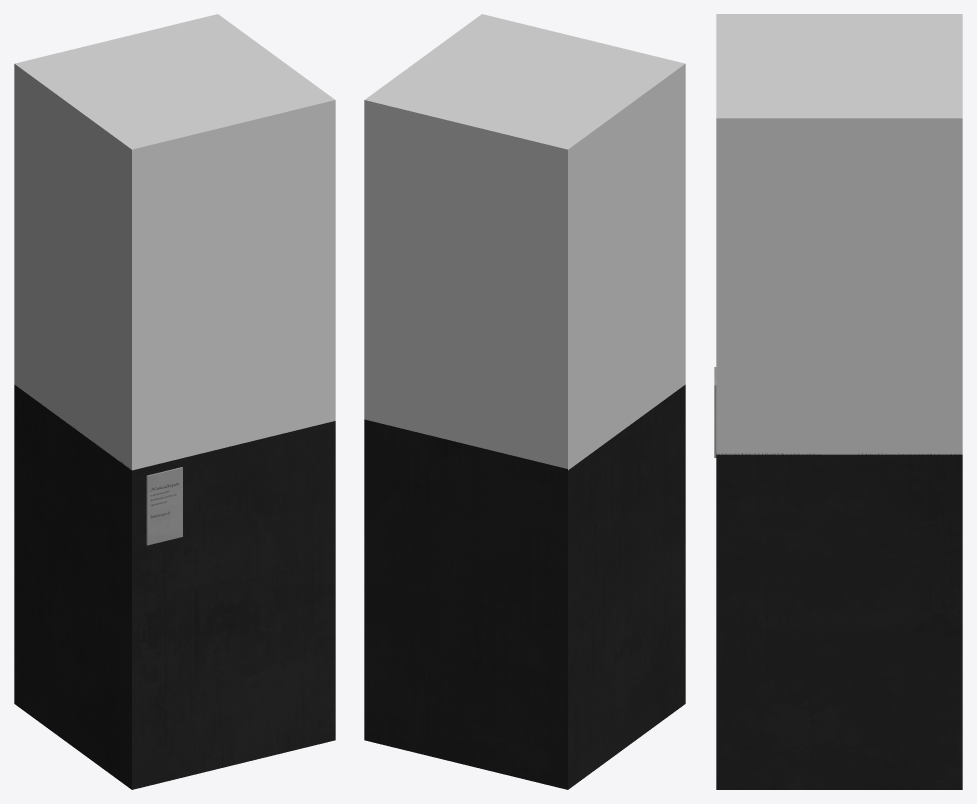
The model's file is Showcasemdl_S.fbx.
3 views of the same model, side by side, from view 1: azimuth 30°, elevation 25°; view 2: azimuth 150°, elevation 25°; view 3: azimuth 270°, elevation 25° (orthographic). The views are drawn at different scales.
Parts seen in each view (by area): view 1: GlassCase2; view 2: GlassCase2; view 3: GlassCase2.
Boxes of the visible parts, left/top/right/bottom form: GlassCase2: left=14, top=14, right=335, bottom=789; GlassCase2: left=364, top=14, right=685, bottom=789; GlassCase2: left=714, top=14, right=962, bottom=789.
Size of the model in its own units: 30.6 by 92 by 30.83.
Materials: 2 (1 with a texture image).
